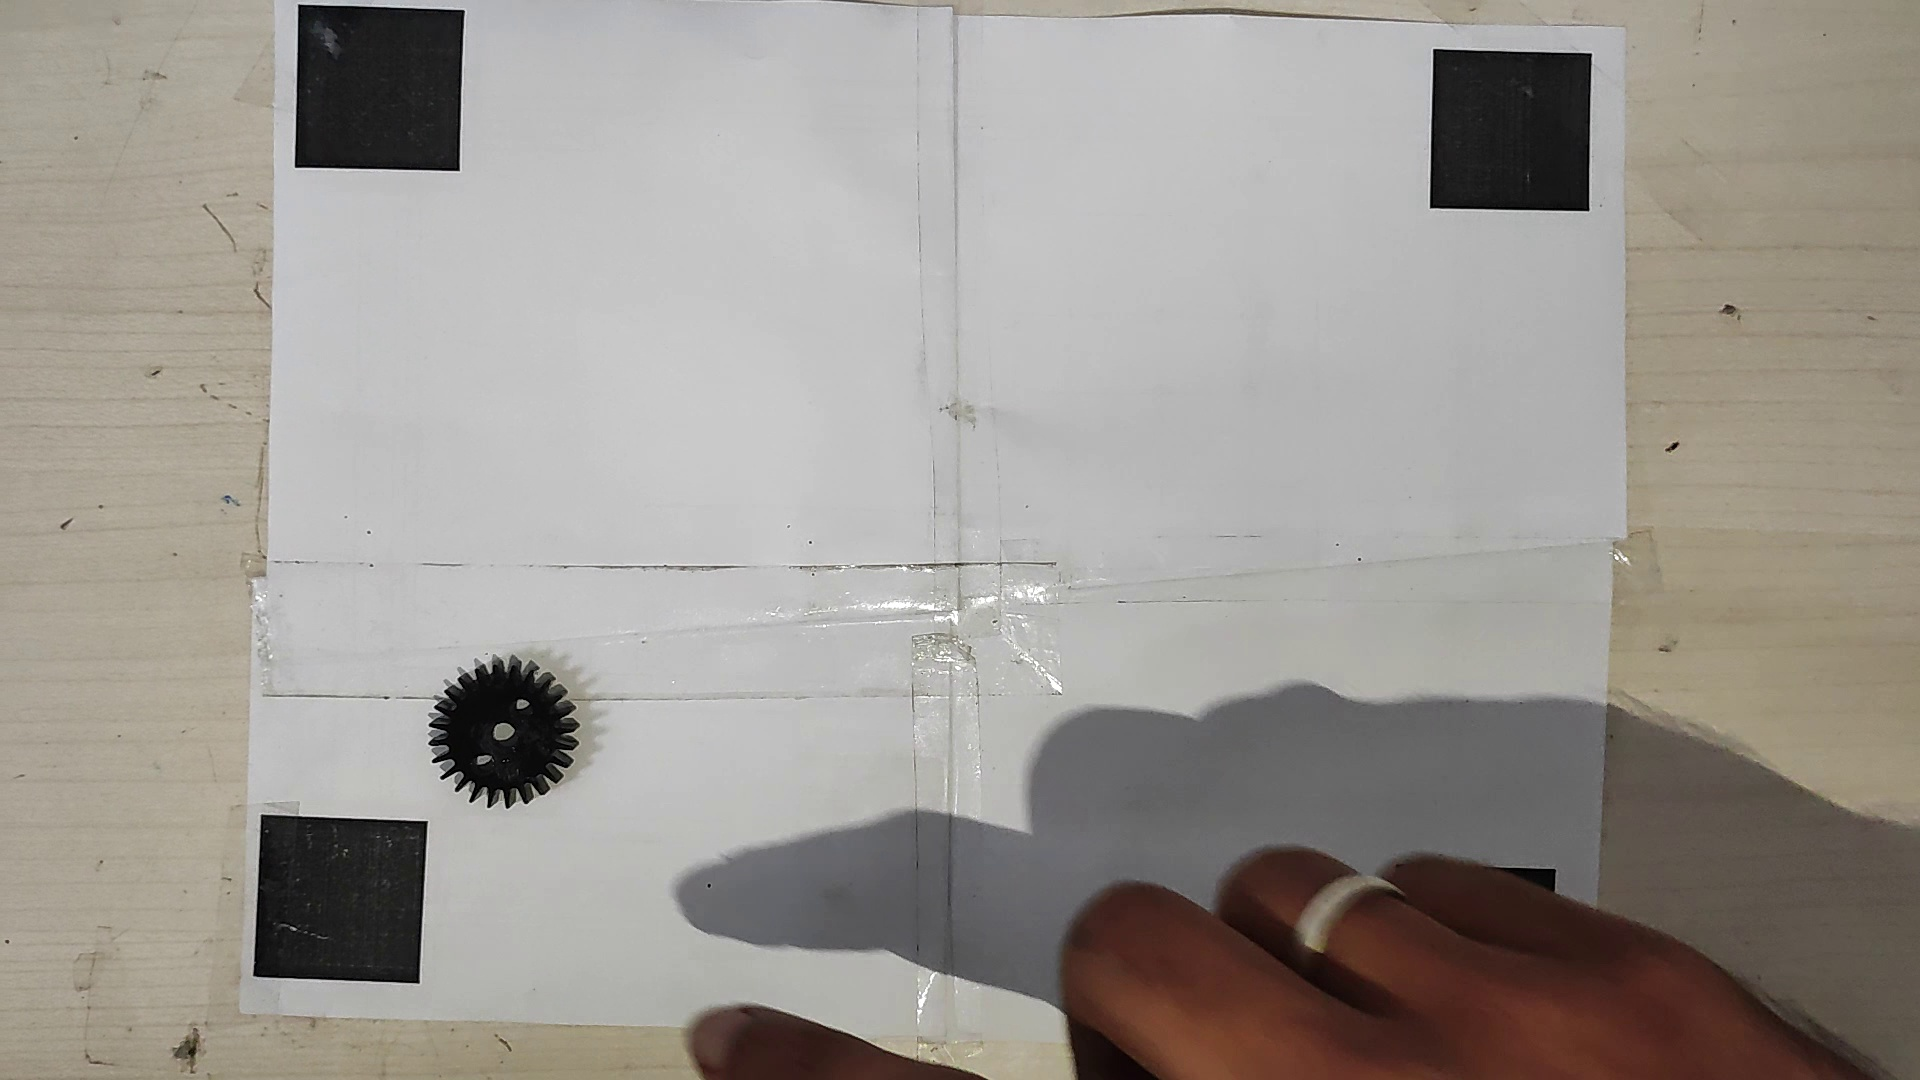Gear: (424, 658, 589, 812)
